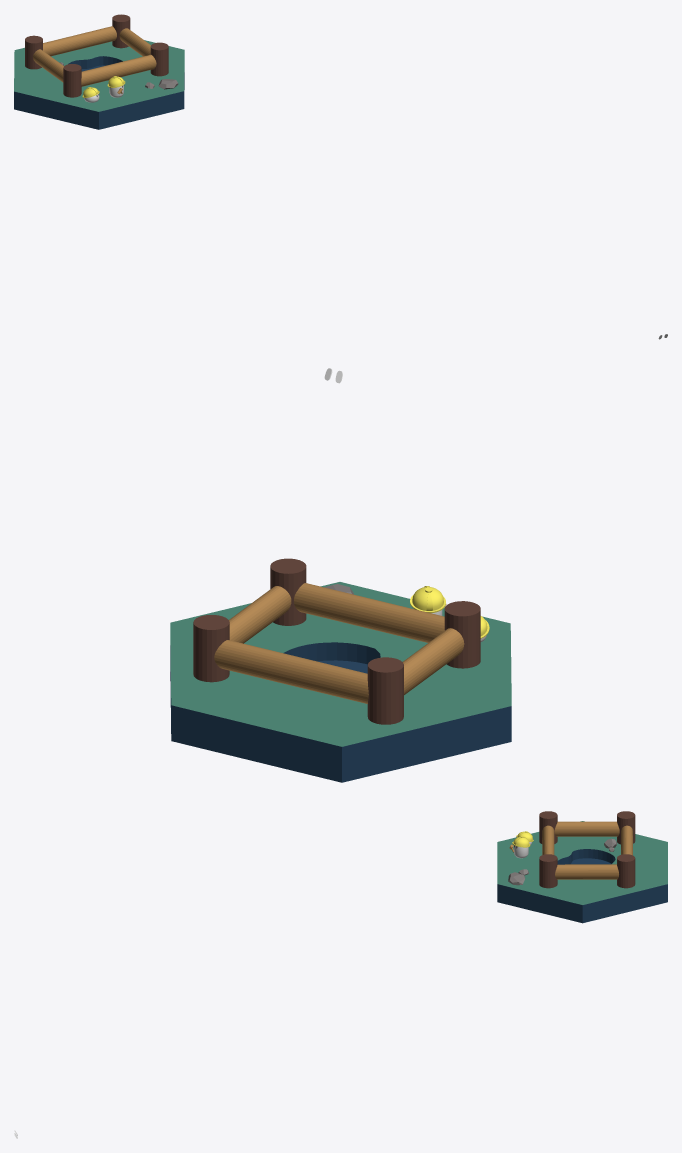
File: Macro Construction View.fbx
3 renders of one model, top to bottom at view 1: azimuth 30°, elevation 25°; view 2: azimuth 150°, elevation 25°; view 3: azimuth 270°, elevation 25°, orthographic. The views are drawn at different scales.
Visible parts, largest first — view 1: Cylinder.021, Cylinder.006, Cylinder.007, Cylinder.008, Cylinder.001, Cylinder.004, Cylinder.005; view 2: Cylinder.021, Cylinder.007, Cylinder.006, Cylinder.009, Cylinder.010, Cylinder.004, Cylinder.005, Cylinder.008, Cylinder.001, Cylinder; view 3: Cylinder.021, Cylinder.004, Cylinder.005, Cylinder.010, Cylinder.001.
Boxes of the visible parts, left/top/right/bottom form: Cylinder.021: left=14, top=40, right=184, bottom=129; Cylinder.006: left=81, top=54, right=156, bottom=86; Cylinder.007: left=43, top=26, right=116, bottom=56; Cylinder.008: left=63, top=64, right=81, bottom=97; Cylinder.001: left=150, top=42, right=168, bottom=76; Cylinder.004: left=33, top=49, right=63, bottom=82; Cylinder.005: left=119, top=28, right=150, bottom=56; Cylinder.021: left=170, top=582, right=511, bottom=782; Cylinder.007: left=214, top=640, right=368, bottom=703; Cylinder.006: left=294, top=583, right=444, bottom=642; Cylinder.009: left=367, top=657, right=403, bottom=724; Cylinder.010: left=193, top=615, right=229, bottom=682; Cylinder.004: left=403, top=628, right=464, bottom=694; Cylinder.005: left=229, top=586, right=291, bottom=643; Cylinder.008: left=444, top=601, right=480, bottom=668; Cylinder.001: left=270, top=558, right=306, bottom=625; Cylinder: left=410, top=586, right=445, bottom=613; Cylinder.021: left=497, top=821, right=667, bottom=923; Cylinder.004: left=554, top=821, right=619, bottom=836; Cylinder.005: left=555, top=864, right=618, bottom=879; Cylinder.010: left=617, top=854, right=635, bottom=888; Cylinder.001: left=539, top=854, right=557, bottom=888.
Bounding box in the file's own units: 436 × 177 × 654.
